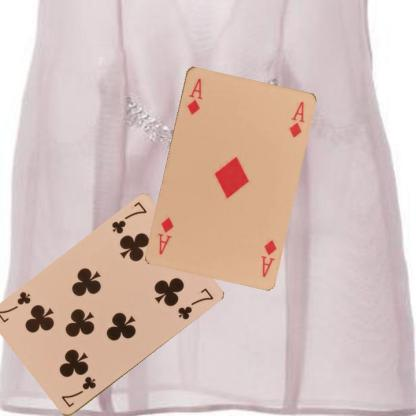7c: (109, 199, 148, 236), (58, 374, 98, 409)
Ad: (183, 75, 204, 116), (258, 237, 278, 278)
